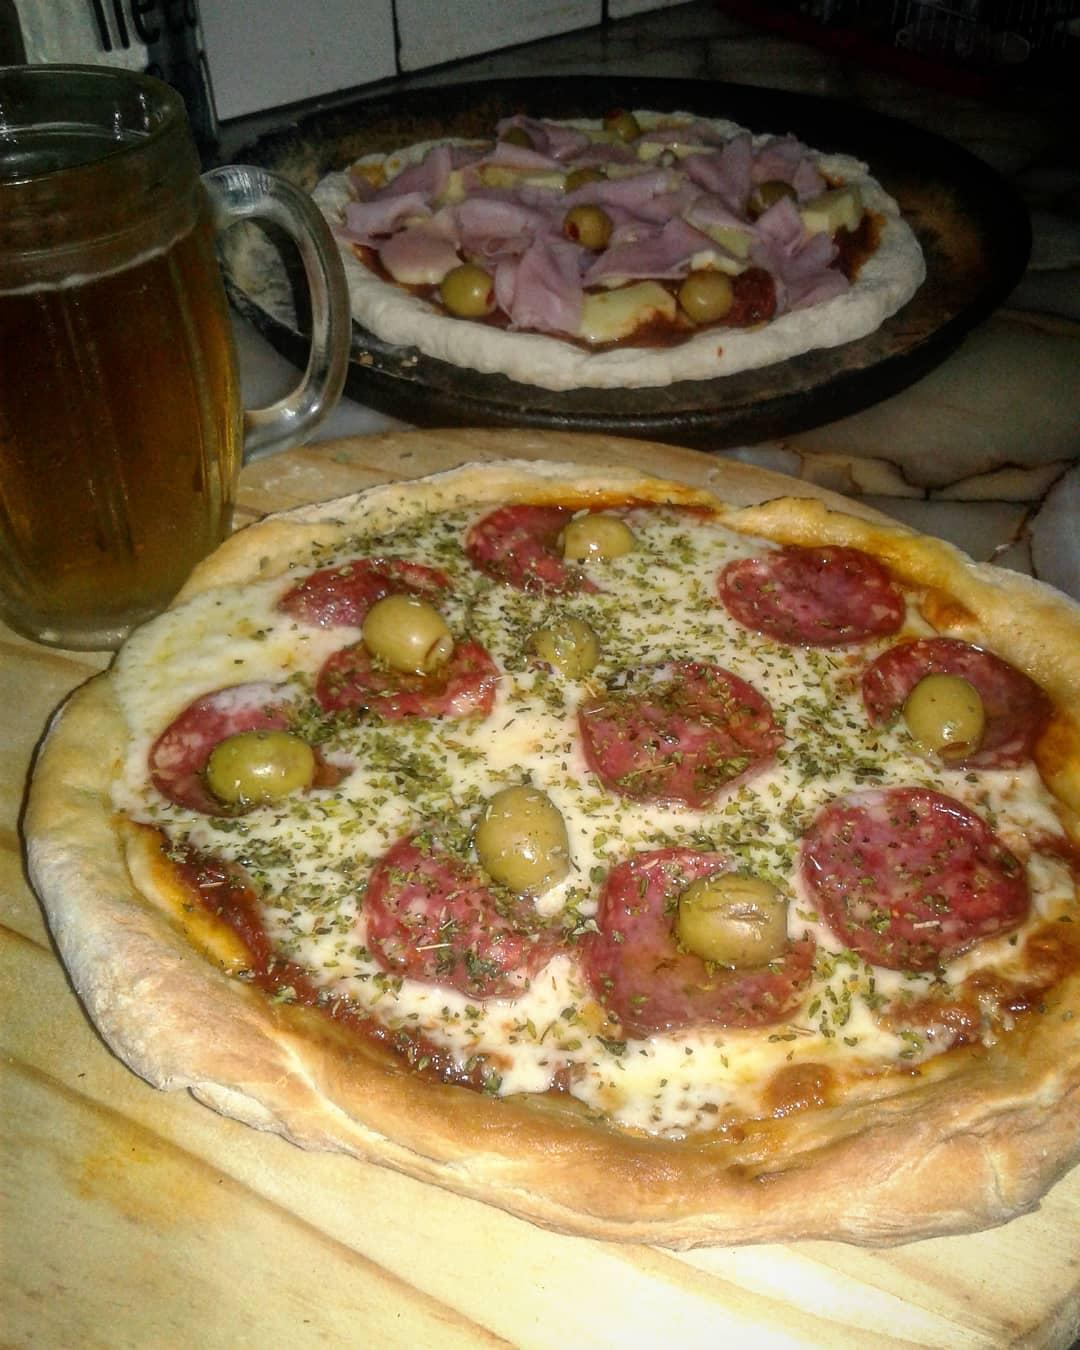Cheese: (575, 280, 677, 339), (796, 183, 865, 238), (696, 218, 753, 274), (478, 164, 566, 193), (636, 140, 724, 164), (428, 170, 467, 208)
Ham: (384, 183, 564, 279), (490, 234, 594, 338), (749, 205, 849, 310), (587, 222, 709, 281), (568, 166, 696, 220), (679, 136, 753, 226), (748, 134, 824, 198), (389, 142, 487, 191), (343, 187, 432, 238), (483, 141, 634, 170), (517, 116, 596, 159), (642, 111, 732, 144)
Olives: (471, 779, 574, 903), (676, 866, 793, 968), (196, 723, 327, 808), (355, 590, 456, 679), (899, 669, 992, 764), (550, 509, 646, 571), (523, 612, 607, 681), (671, 269, 742, 321), (435, 262, 500, 313), (739, 173, 804, 218), (560, 202, 619, 246), (597, 106, 637, 142), (498, 125, 534, 154)
Pepperoni: (585, 839, 825, 1037), (799, 781, 1039, 975), (356, 814, 568, 1007), (572, 654, 781, 808), (861, 627, 1066, 771), (134, 677, 350, 810), (717, 532, 915, 642), (312, 633, 511, 739), (463, 495, 598, 602), (276, 550, 452, 627)
Pizza: (20, 449, 1080, 1259), (228, 106, 964, 392)
